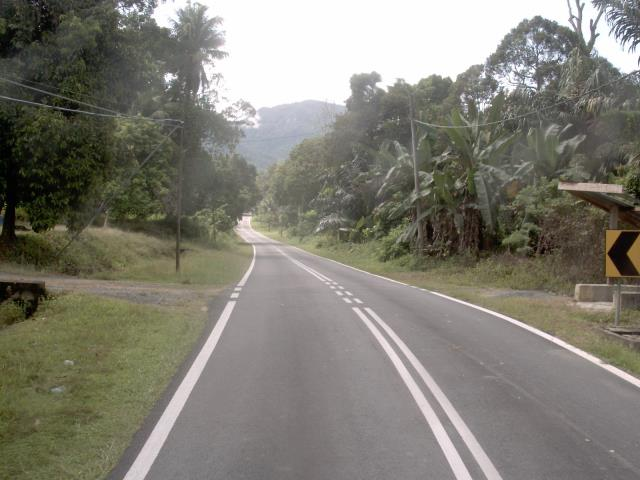traffic_sign: (597, 221, 640, 290)
